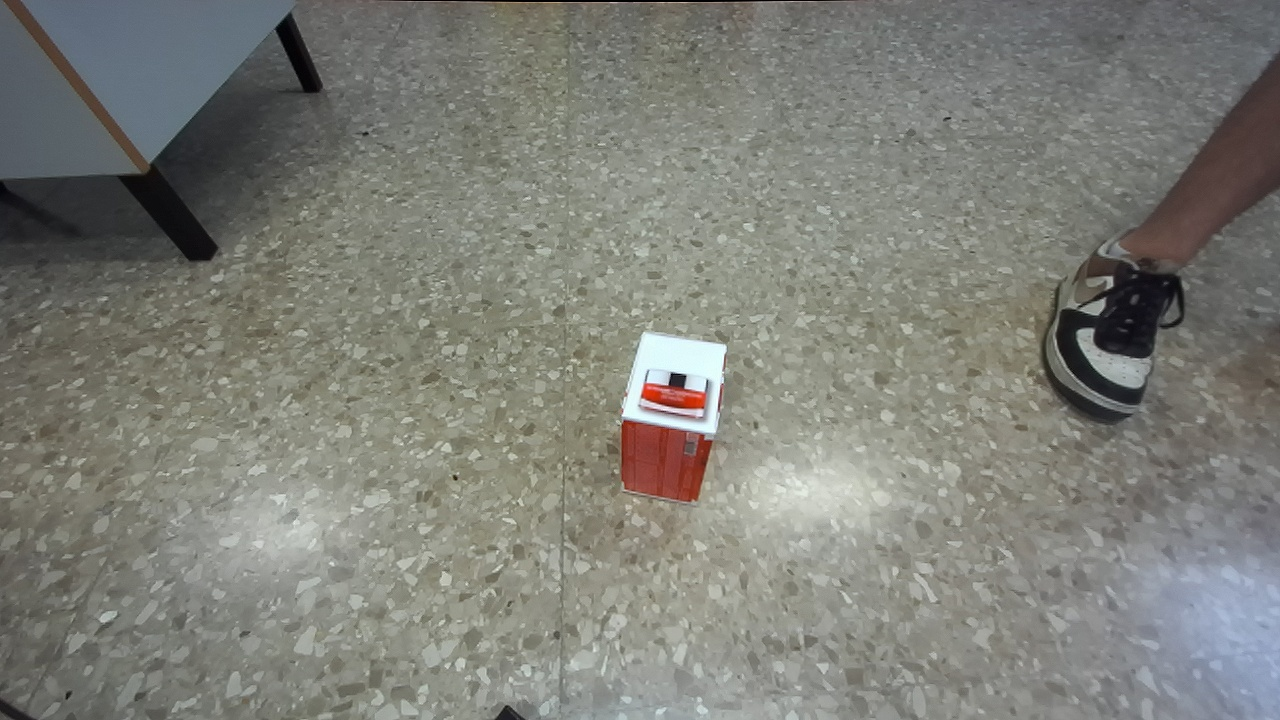caja_potencia: (622, 333, 726, 503)
